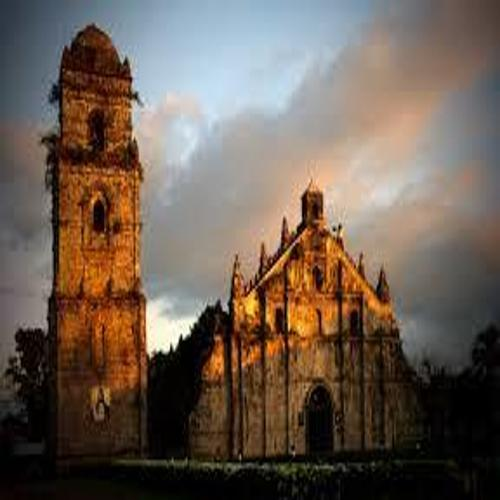Paoay Church: (29, 19, 438, 457)
